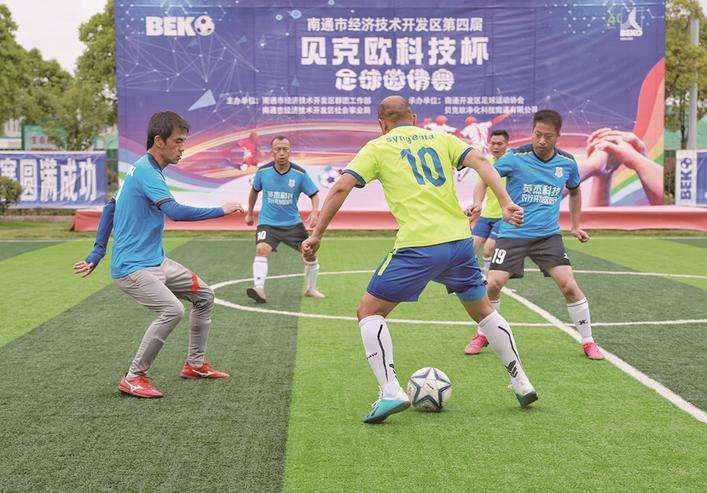football: (406, 368, 453, 413)
